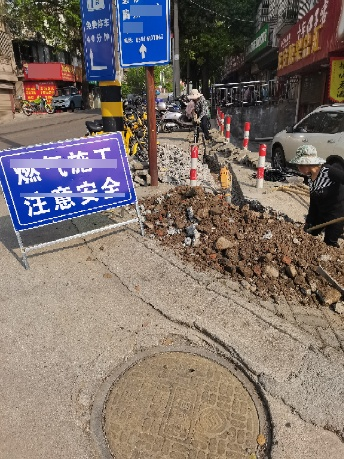good: (88, 345, 276, 459)
